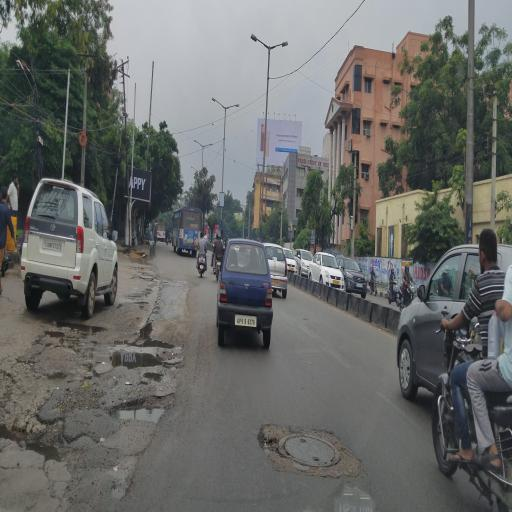street_light_0: (243, 26, 267, 60), (266, 32, 294, 60), (224, 94, 246, 120), (210, 88, 230, 114), (190, 127, 204, 148), (203, 132, 217, 152)
